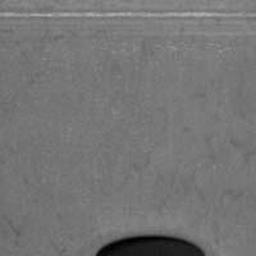Punching: (95, 236, 207, 256)
